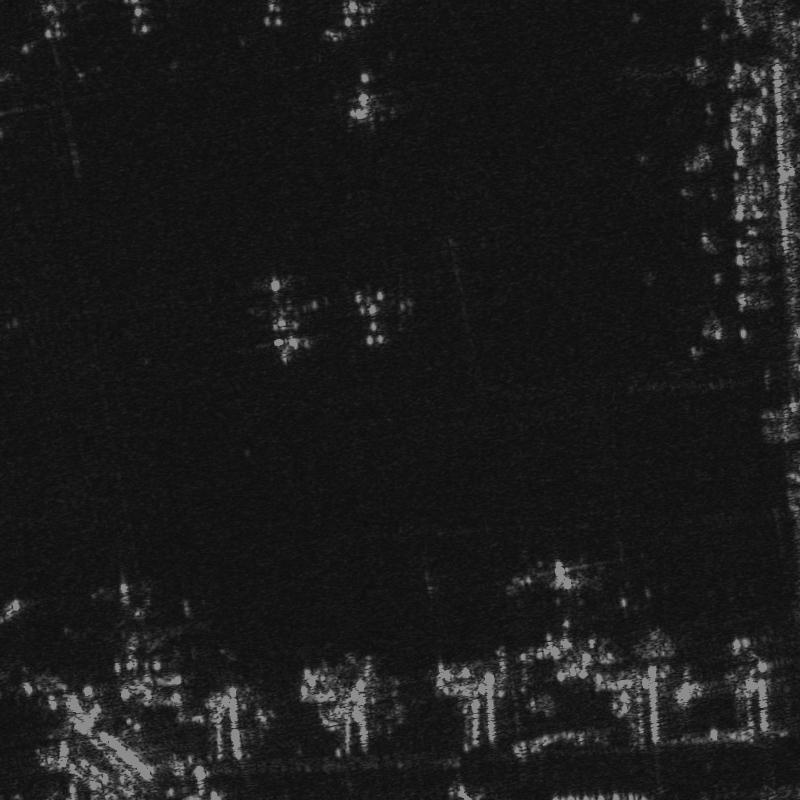A220: (342, 279, 402, 353)
ARJ21: (340, 65, 393, 136)
Boeing787: (513, 545, 596, 610)
other: (93, 571, 181, 708), (239, 267, 336, 368)
